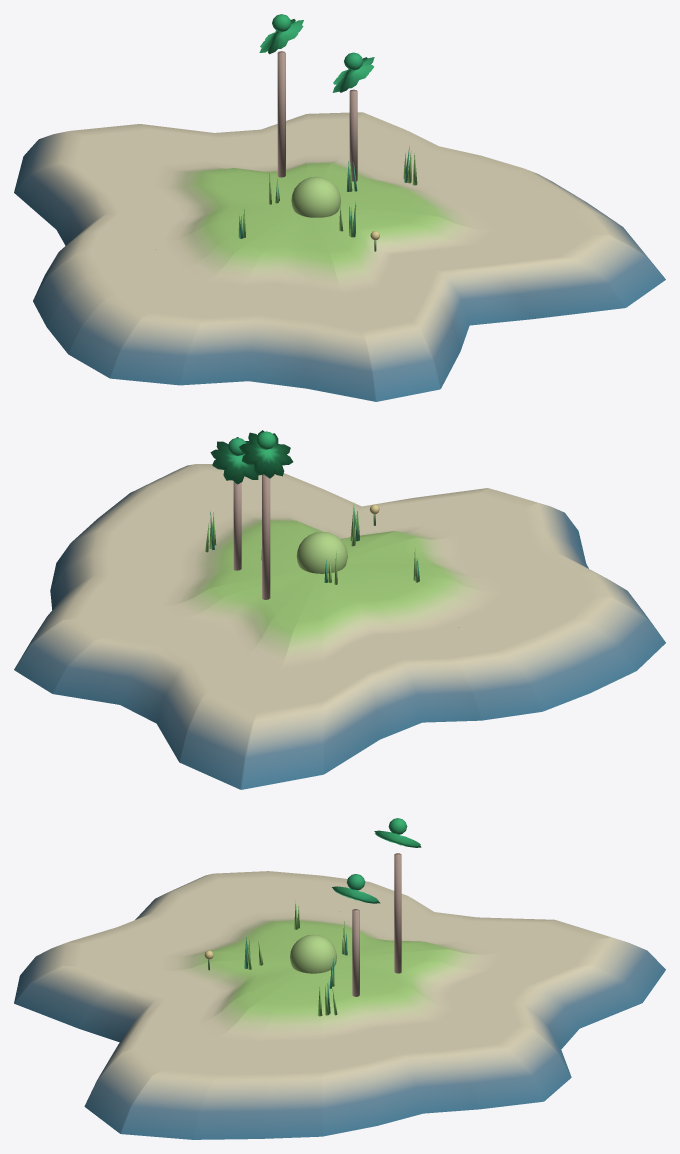
File: terrain_island_07.glb
3 views of the same model, one above another, from view 1: azimuth 30°, elevation 25°; view 2: azimuth 150°, elevation 25°; view 3: azimuth 270°, elevation 25° (orthographic). The views are drawn at different scales.
Visible parts, largest first — view 1: island_terrain, hill0, veg_tree1_palm_trunk, veg_tree0_palm_trunk; view 2: island_terrain, hill0, veg_tree1_palm_trunk, veg_tree0_palm_trunk; view 3: island_terrain, hill0, veg_tree1_palm_trunk, veg_tree0_palm_trunk.
Boxes of the visible parts, box(x1,y1,x2,y2) form: island_terrain: box(14, 112, 665, 401); hill0: box(291, 176, 340, 217); veg_tree1_palm_trunk: box(277, 51, 285, 177); veg_tree0_palm_trunk: box(349, 89, 357, 181); island_terrain: box(14, 464, 665, 789); hill0: box(296, 532, 347, 573); veg_tree1_palm_trunk: box(262, 474, 270, 599); veg_tree0_palm_trunk: box(233, 481, 241, 570); island_terrain: box(14, 871, 665, 1139); hill0: box(290, 934, 336, 973); veg_tree1_palm_trunk: box(394, 853, 401, 973); veg_tree0_palm_trunk: box(352, 909, 359, 996).
Size of the model in its own units: 151 by 57.82 by 167.
